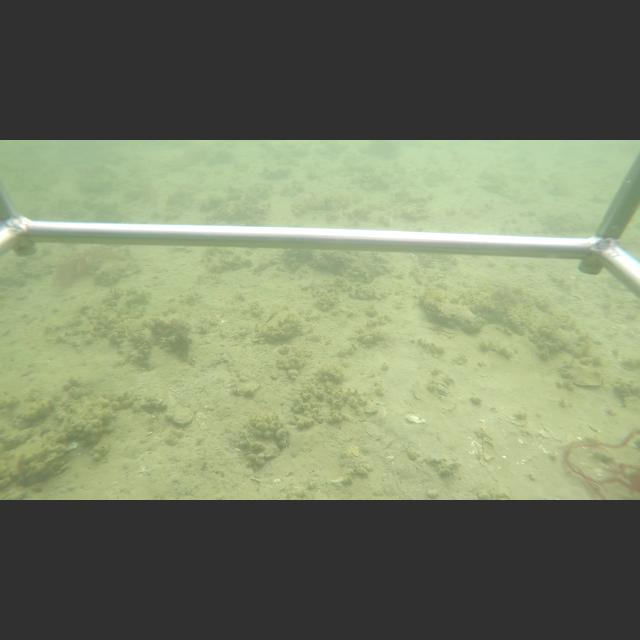Oyster-Closed: (416, 298, 489, 334)
